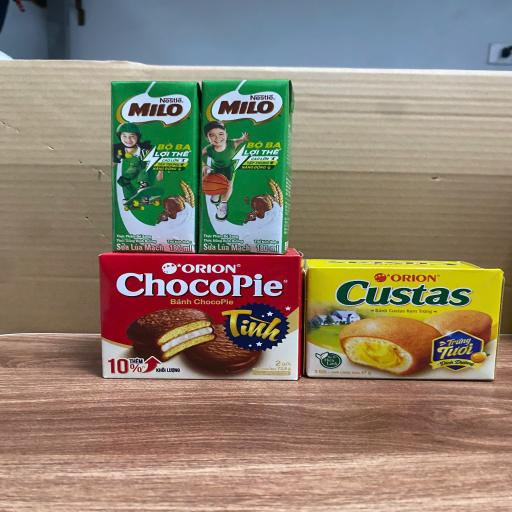chocopie: (99, 247, 304, 380)
custas: (302, 259, 504, 381)
milo: (199, 78, 294, 254), (112, 80, 202, 253)
